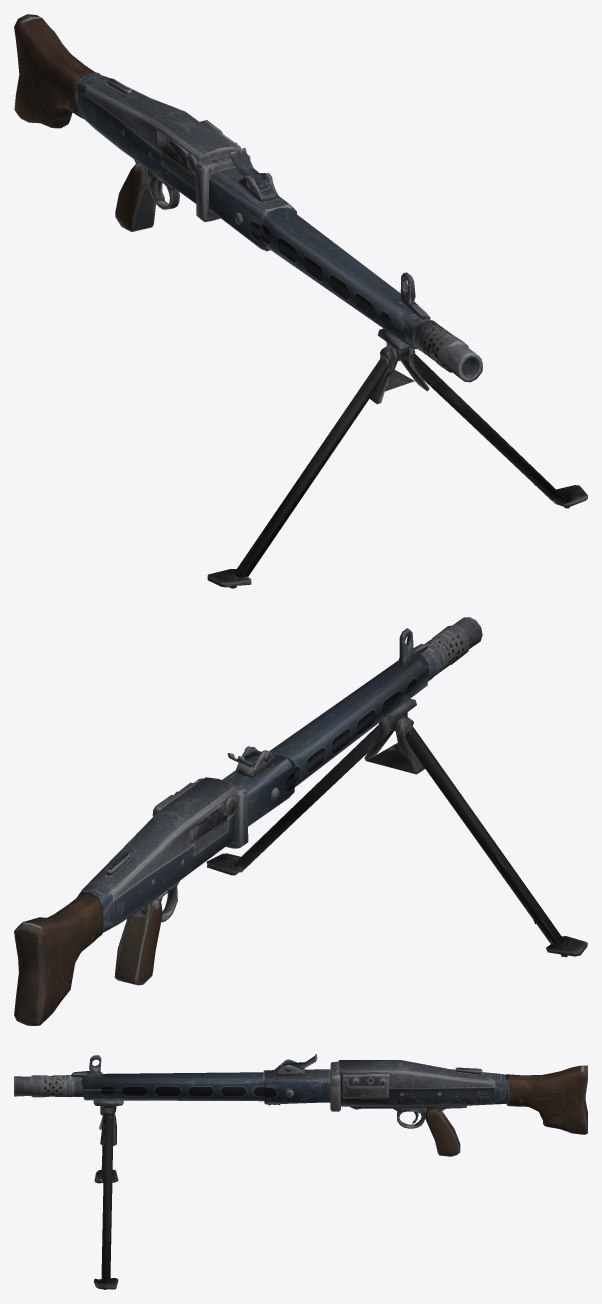
Rendered from mg42-bipod.fbx.
3 renders of one model, top to bottom at view 1: azimuth 30°, elevation 25°; view 2: azimuth 150°, elevation 25°; view 3: azimuth 270°, elevation 25°, orthographic. The views are drawn at different scales.
Parts seen in each view (by area): view 1: mg42-bipod; view 2: mg42-bipod; view 3: mg42-bipod.
Boxes of the visible parts, box(x1,y1,x2,y2) form: mg42-bipod: box(14, 14, 587, 588); mg42-bipod: box(14, 617, 587, 1025); mg42-bipod: box(14, 1054, 587, 1289).
Size of the model in its own units: 59.53 by 42.55 by 122.
Materials: 1 (1 with a texture image).
